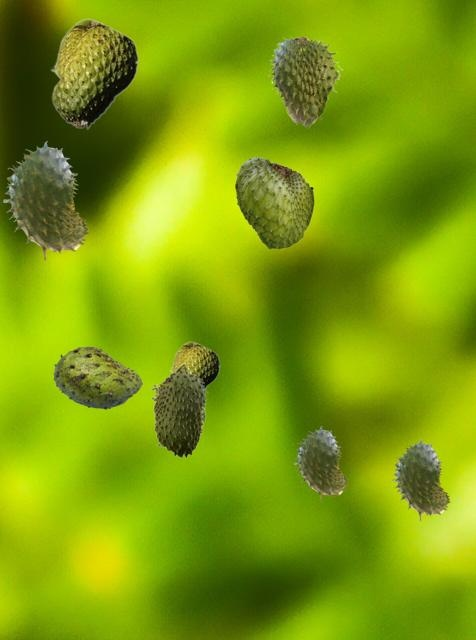guyabano: (3, 141, 88, 260), (50, 18, 138, 129), (235, 155, 313, 248), (268, 36, 342, 127), (53, 346, 141, 408), (151, 363, 207, 457), (392, 439, 449, 520), (294, 426, 347, 500), (169, 341, 219, 387)
